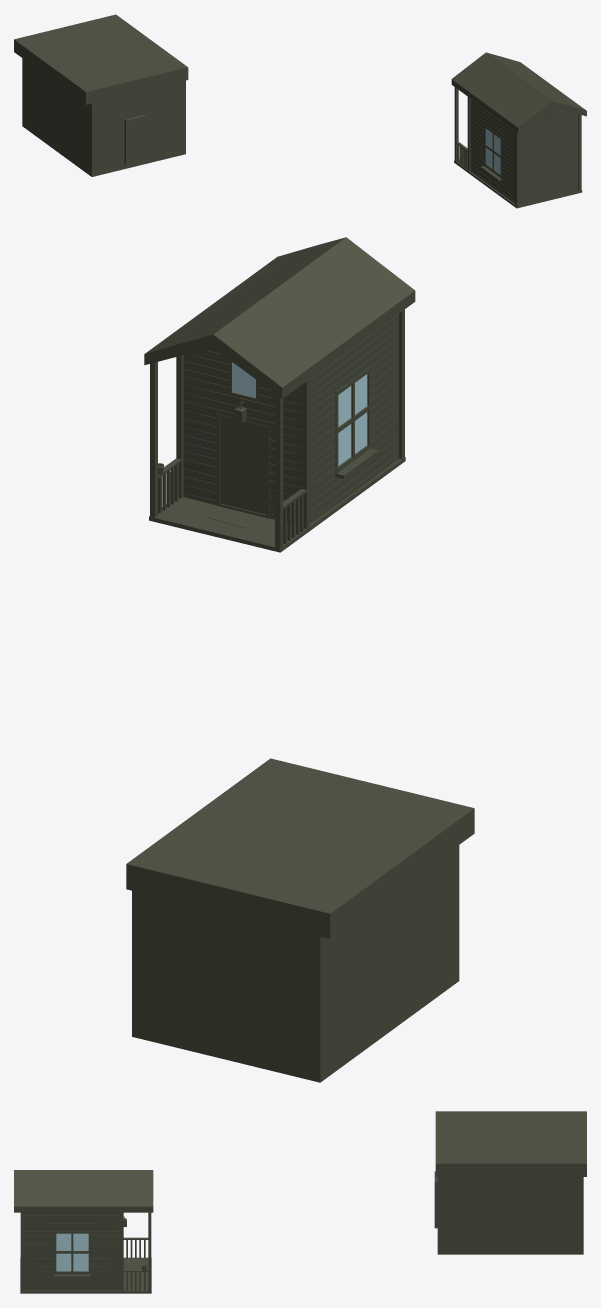
The model's file is Game Jam House .fbx.
3 renders of one model, top to bottom at view 1: azimuth 30°, elevation 25°; view 2: azimuth 150°, elevation 25°; view 3: azimuth 270°, elevation 25°, orthographic. The views are drawn at different scales.
Parts seen in each view (by area): view 1: Inside House, Outside House; view 2: Inside House, Outside House; view 3: Inside House, Outside House.
Part boxes in pixels (bbox=[...]): Inside House: bbox=[14, 14, 188, 176]; Outside House: bbox=[451, 52, 586, 208]; Inside House: bbox=[126, 758, 474, 1082]; Outside House: bbox=[144, 237, 415, 552]; Inside House: bbox=[434, 1111, 586, 1254]; Outside House: bbox=[14, 1170, 153, 1293].
Bounding box in the file's own units: 9890 × 5055 × 15554.
